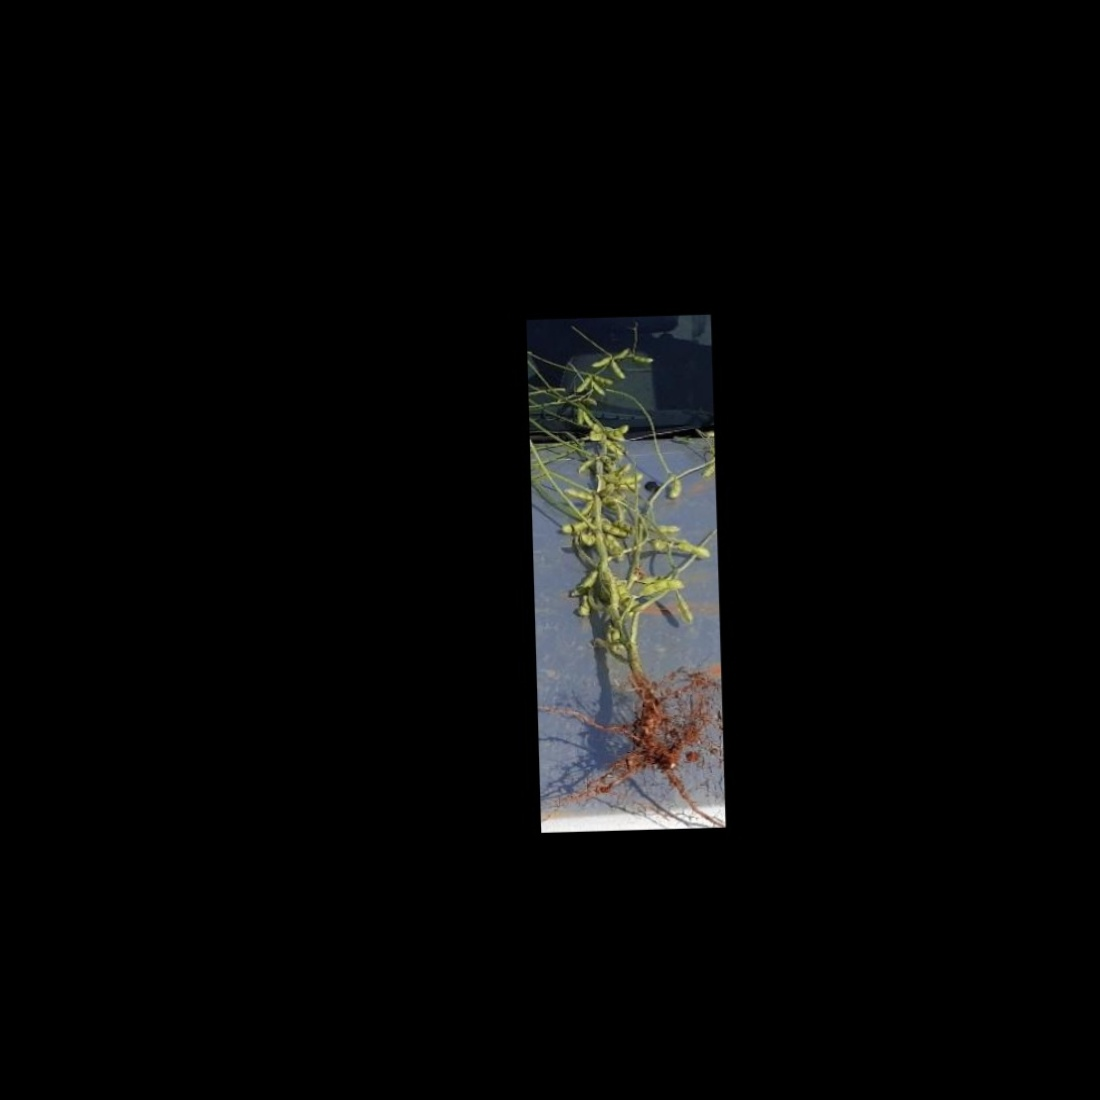pod: (634, 579, 686, 600), (675, 539, 713, 561), (675, 594, 694, 627), (665, 477, 685, 501), (565, 488, 594, 503), (559, 520, 586, 534), (574, 375, 592, 395), (574, 458, 595, 475), (605, 425, 631, 439), (609, 358, 625, 381), (654, 523, 682, 535), (631, 354, 655, 366), (592, 379, 606, 398), (580, 408, 593, 428), (589, 356, 610, 368), (575, 408, 583, 427)
soy: (537, 319, 719, 804)
